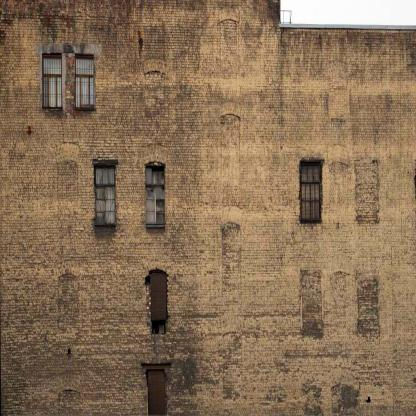Building Outline: (0, 0, 416, 415)
Facade: (0, 28, 416, 415)
Floor: (0, 136, 416, 246), (0, 27, 416, 129), (0, 254, 416, 342), (0, 350, 416, 416)
Floor Slab: (0, 129, 416, 137), (0, 342, 416, 350), (0, 246, 416, 253)
Window: (300, 160, 322, 222), (94, 165, 115, 225), (146, 167, 165, 227), (76, 54, 95, 108), (43, 54, 62, 108), (152, 273, 167, 333), (148, 369, 165, 416)
